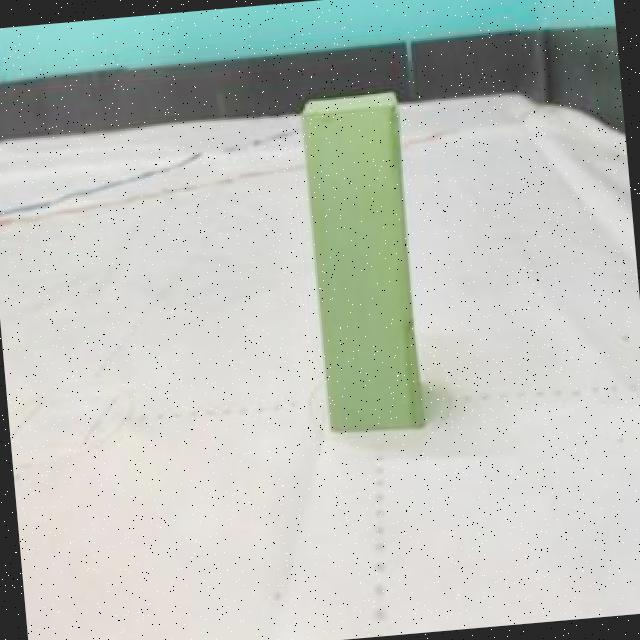greenbox: (298, 85, 428, 436)
